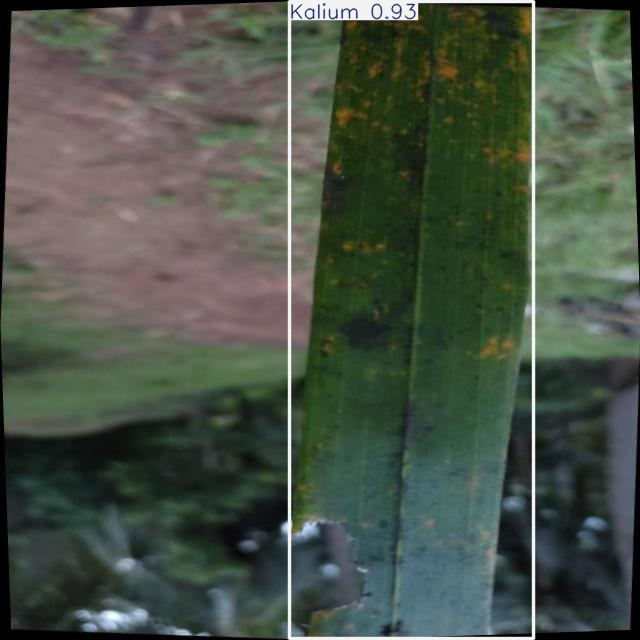Kalium: (289, 1, 534, 639)
